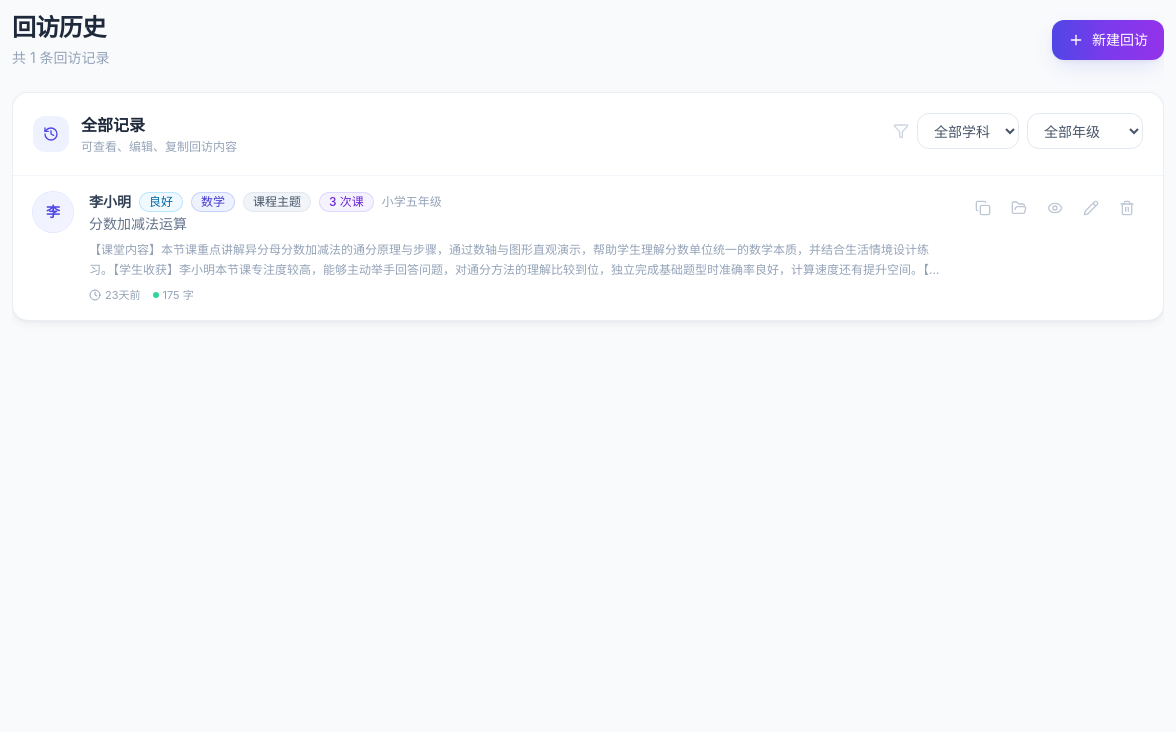
Scenario: 回访历史 · 课次展示 › 详情弹窗标注涵盖课次
The image size is (1176, 732).
Expected: the text "分数加减法运算" is shown, [89,215,187,232]
Click the button titled "查看详情" at (1055, 208), box [1039,192,1071,224]
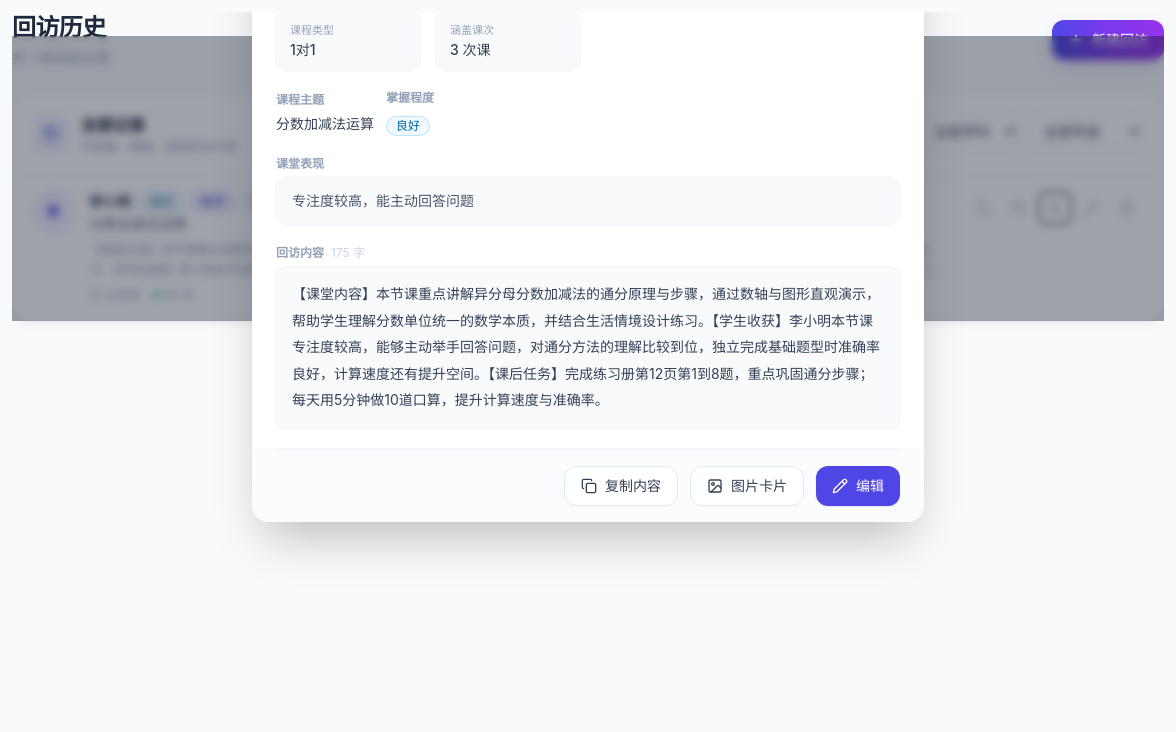
Expected: the text "涵盖课次" is shown, [450,23,494,37]
Expected: the text "3 次课" is shown, [450,41,490,58]
